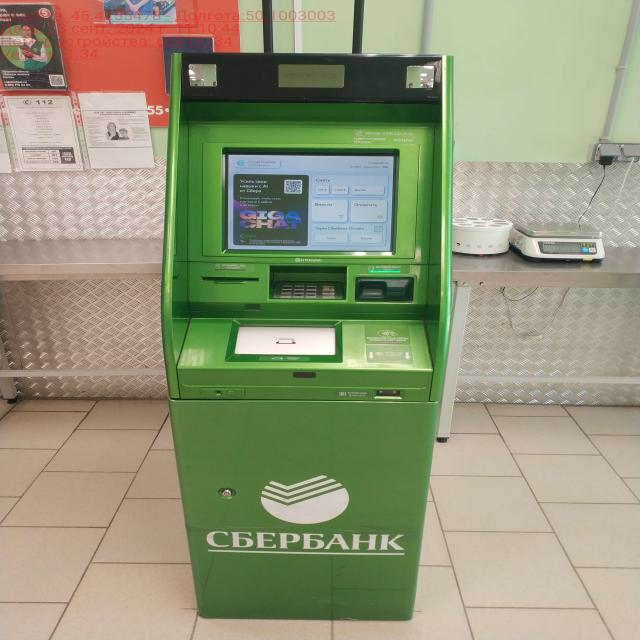bank: (161, 46, 454, 622)
